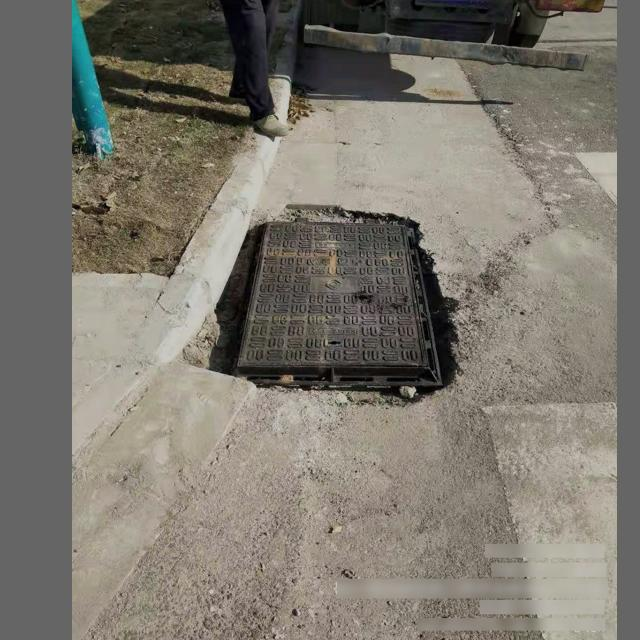circle: (205, 212, 459, 400)
